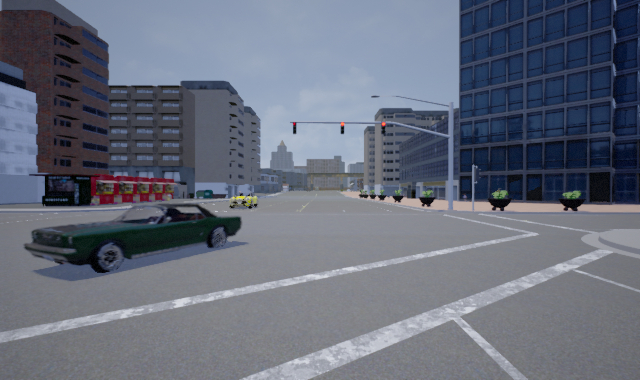traffic_light: (381, 119, 387, 138), (339, 121, 346, 134), (292, 120, 297, 134)
vehicle: (25, 200, 243, 272), (228, 192, 258, 210)
